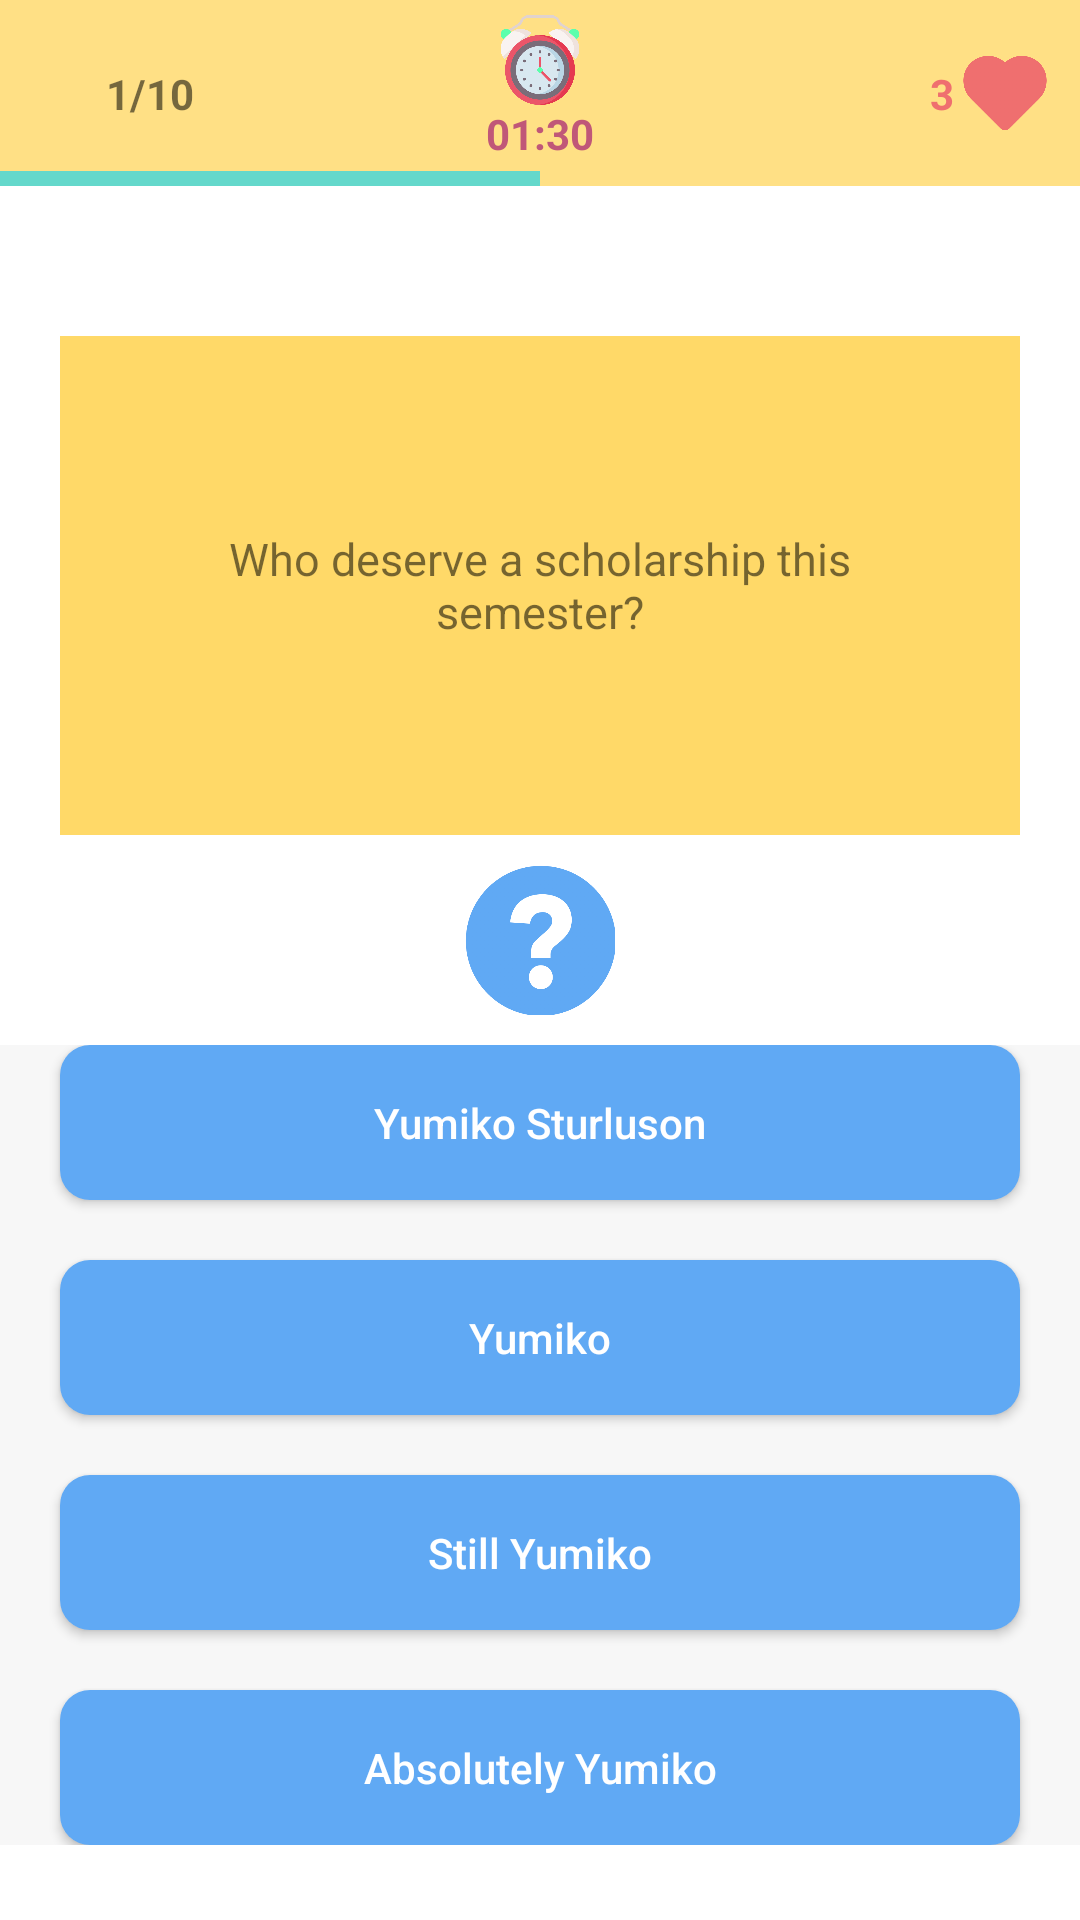

Where icons sit on this 1080×1920 app screen, as (x1, y1, x2, y2):
clock: (501, 15, 579, 105)
heart: (963, 56, 1047, 130)
question mark: (466, 866, 615, 1015)
